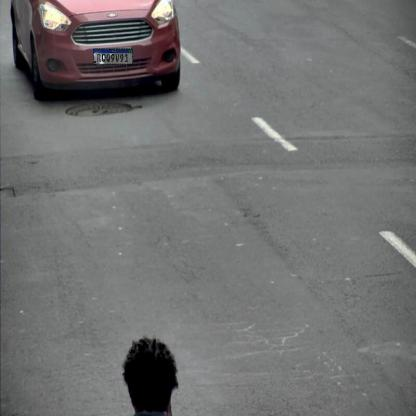PlacaM: (93, 48, 133, 64)
